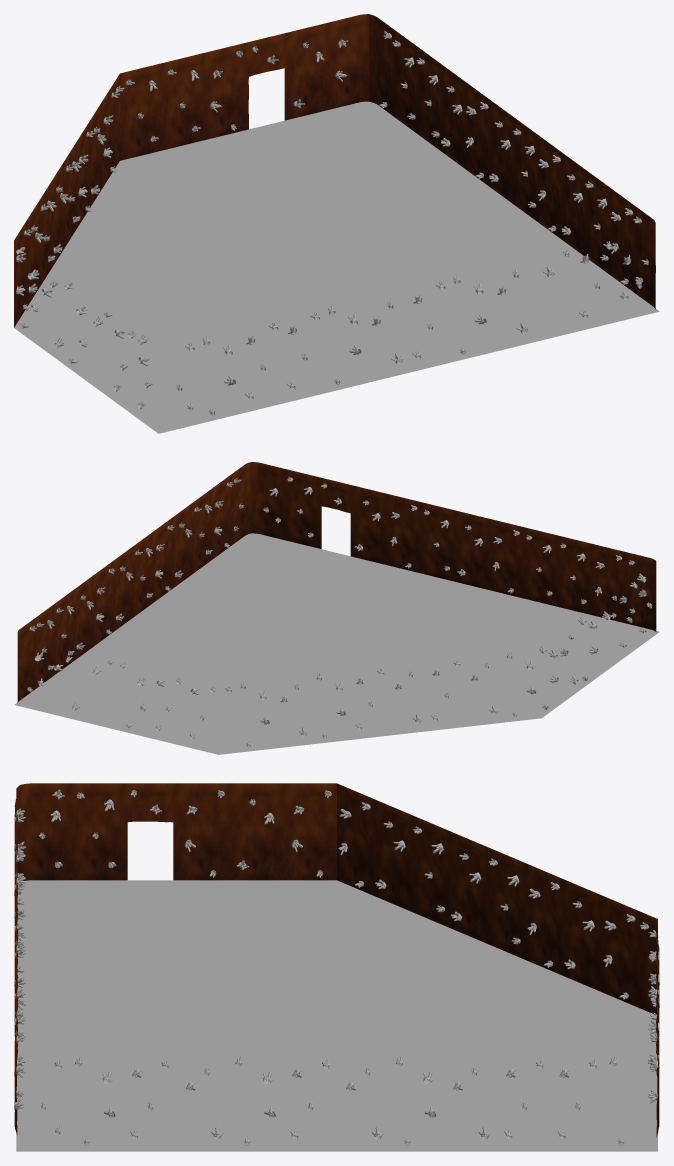
File: room_2.fbx
3 views of the same model, one above another, from view 1: azimuth 30°, elevation 25°; view 2: azimuth 150°, elevation 25°; view 3: azimuth 270°, elevation 25° (orthographic). The views are drawn at different scales.
Parts seen in each view (by area): view 1: wall_piece_40; view 2: wall_piece_40; view 3: wall_piece_40.
Boxes of the visible parts, left/top/right/bottom form: wall_piece_40: left=14, top=14, right=659, bottom=433; wall_piece_40: left=14, top=462, right=659, bottom=754; wall_piece_40: left=14, top=783, right=659, bottom=1151.
Size of the model in its own units: 1208 by 200 by 1208.
